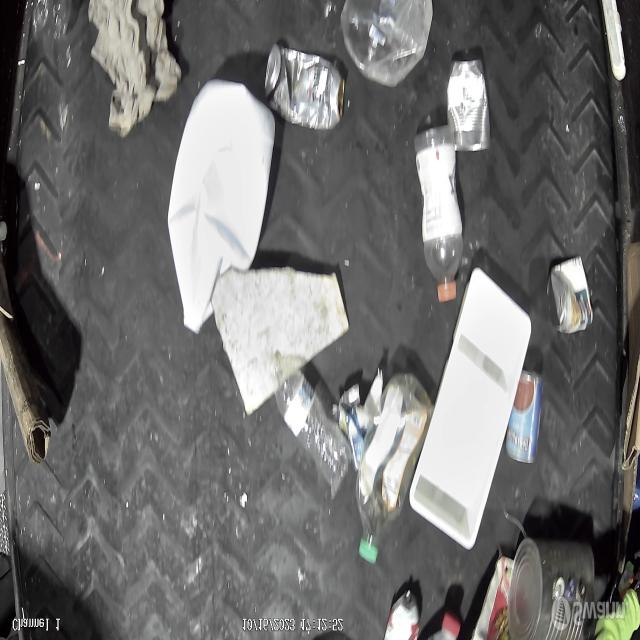can: (497, 526, 613, 638), (266, 41, 344, 130), (504, 363, 550, 468), (550, 255, 602, 342), (449, 49, 487, 154)
milk_jug: (168, 83, 276, 335)
plastic_bottle: (354, 361, 434, 568), (264, 352, 352, 498), (412, 123, 472, 305)
